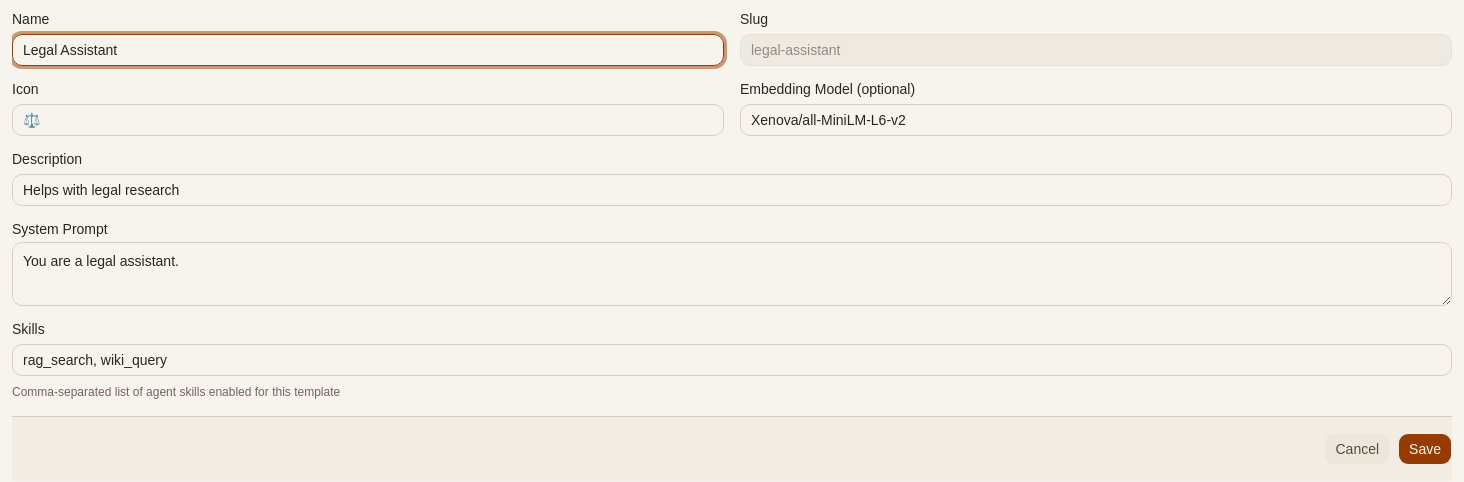
it: TemplateForm (Phase 112-01) › submit is disabled when name cleared in edit mode
The width and height of the screenshot is (1464, 482).
Clear the field labelled "Name" at (368, 50), box left=12, top=34, right=724, bottom=66
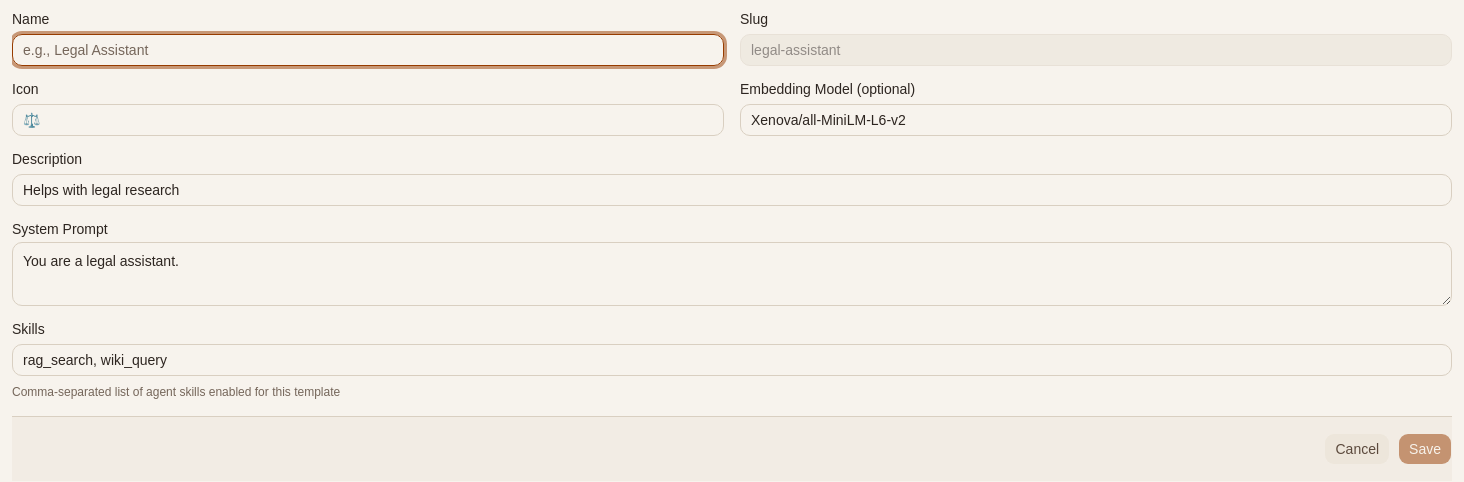
Check: the button "Save" is disabled, box left=1398, top=433, right=1452, bottom=465
